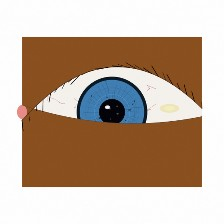pinguecula_lesion: (150, 93, 189, 124)
